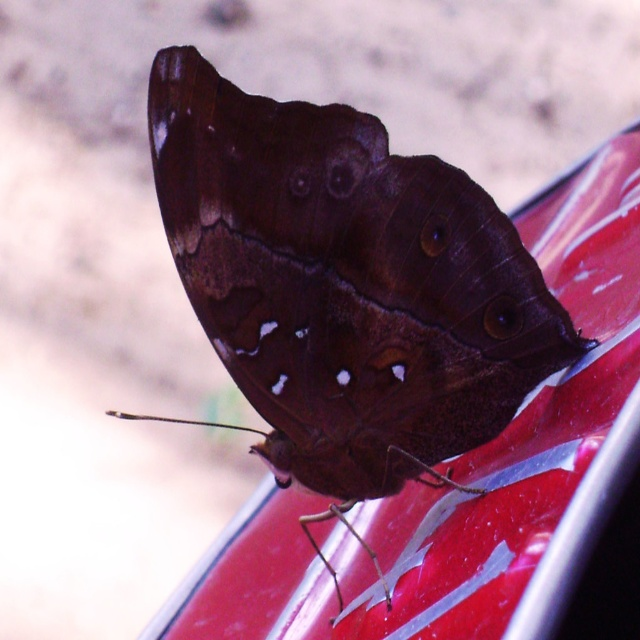Butterfly: (106, 45, 601, 624)
